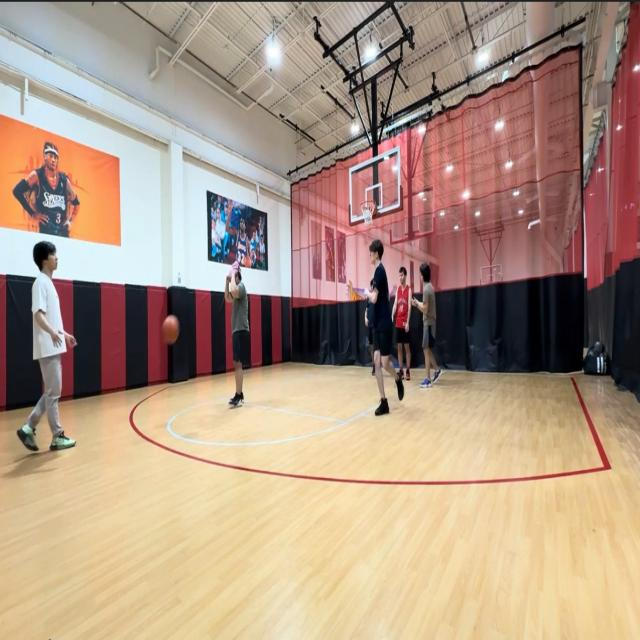Basketball: (162, 316, 180, 344)
Basketball Rim: (360, 199, 375, 225)
